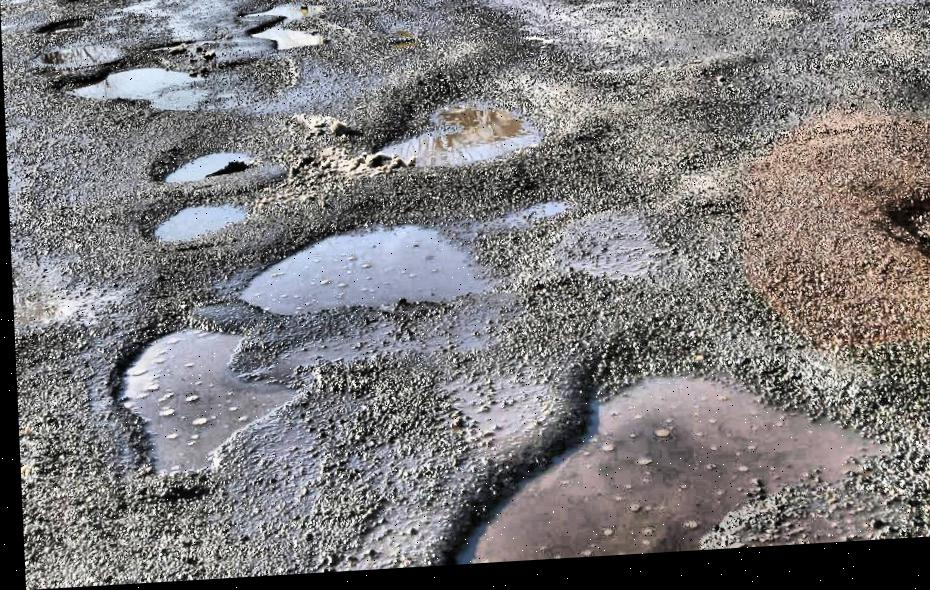pothole: (410, 353, 916, 565), (95, 320, 286, 475), (241, 222, 488, 321), (371, 87, 543, 175), (56, 49, 239, 123), (134, 123, 275, 191), (231, 0, 333, 63), (146, 199, 249, 254)
